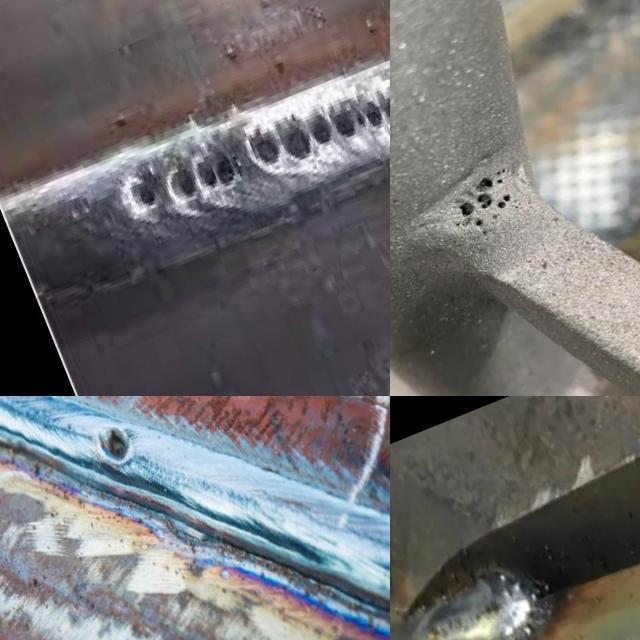defect: (238, 96, 390, 171), (121, 146, 249, 218), (101, 426, 135, 469), (476, 165, 513, 189), (456, 200, 477, 218), (475, 192, 495, 210), (495, 192, 515, 209), (473, 218, 484, 228), (513, 200, 523, 210), (491, 211, 501, 220), (479, 229, 490, 237)
